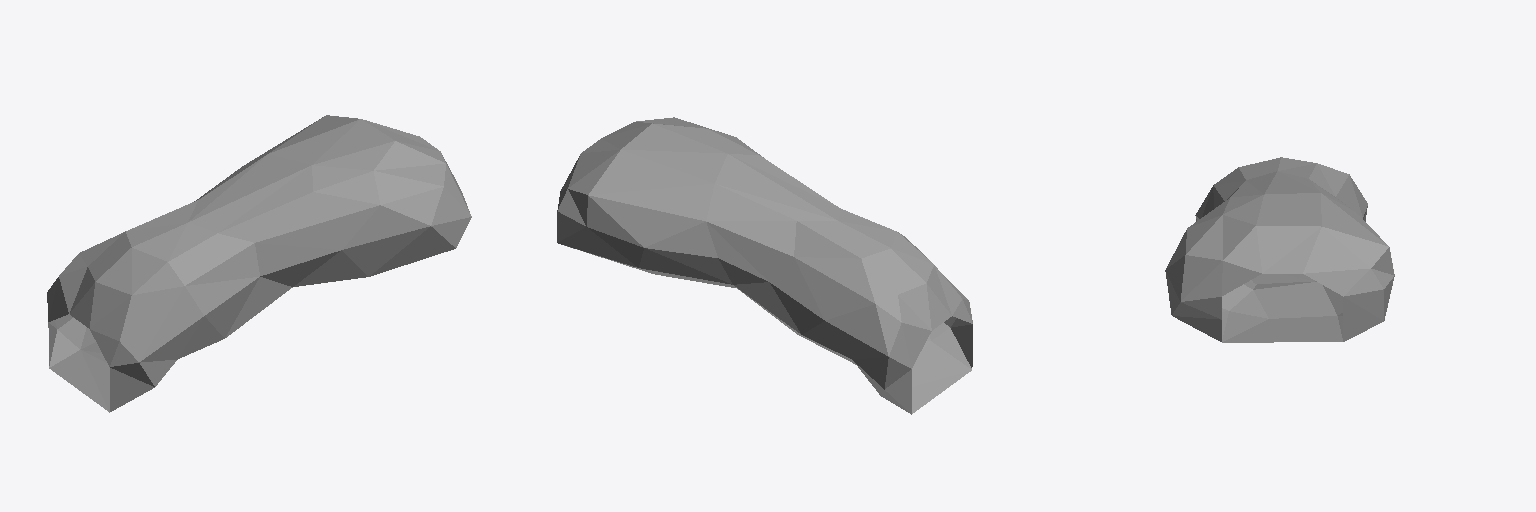
Rendered from Mesh_CavePack_Slope_Long_lod1.obj.
3 views of the same model, side by side, from view 1: azimuth 30°, elevation 25°; view 2: azimuth 150°, elevation 25°; view 3: azimuth 270°, elevation 25° (orthographic).
Parts seen in each view (by area): view 1: Plane.003; view 2: Plane.003; view 3: Plane.003.
Boxes of the visible parts, x1,y1,x2,y2 form: Plane.003: [47, 115, 471, 412]; Plane.003: [557, 117, 972, 414]; Plane.003: [1165, 157, 1394, 342].
Bounding box in the file's own units: 32.04 × 16.15 × 18.12.